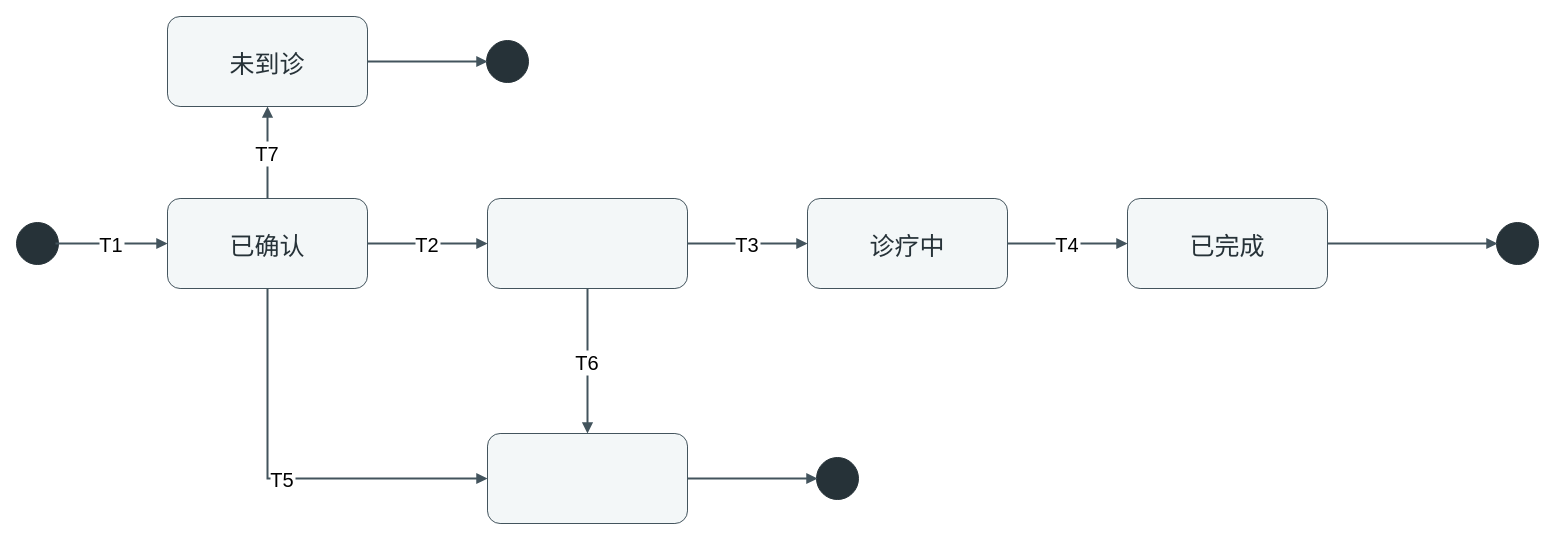
Image size: 1555x540. Some labels were removed from this diagram. Each missing label, with the centre of its shape:
已到诊: (587,243)
已取消: (587,478)
